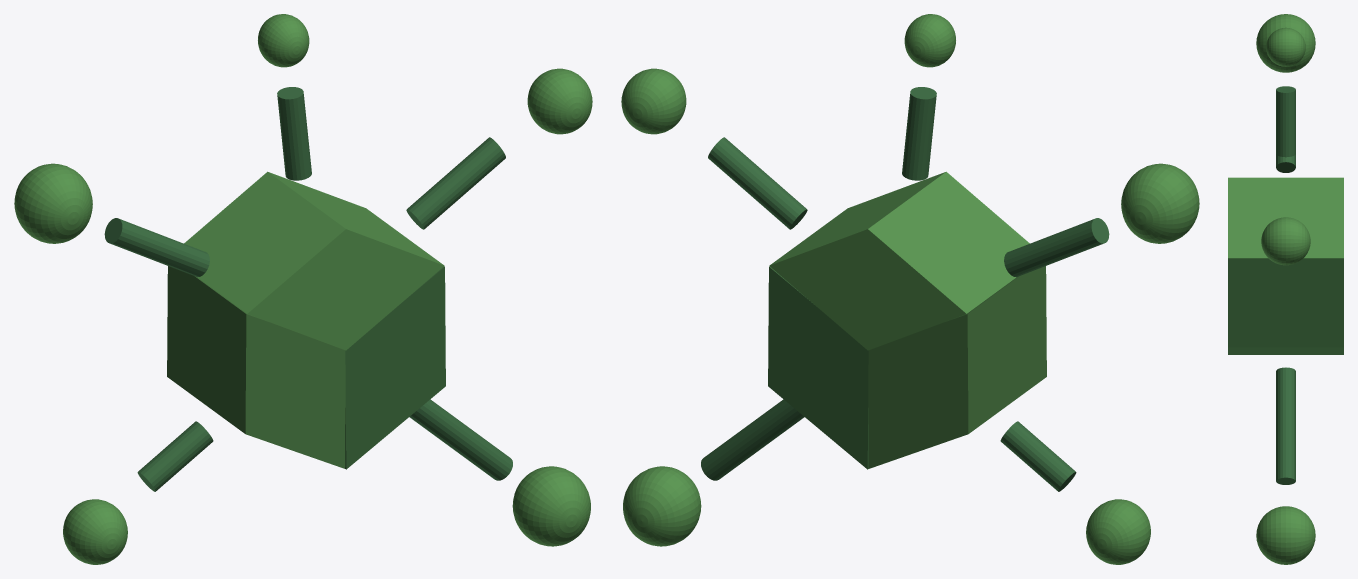
Rendered from tinker.obj.
The picture shows the model from 3 angles, left to right: view 1: azimuth 30°, elevation 25°; view 2: azimuth 150°, elevation 25°; view 3: azimuth 270°, elevation 25°; orthographic projection. The views are drawn at different scales.
Visible parts, largest first — view 1: group_0_5607757, group_0_4815938, group_0_3960131, group_0_3959612; view 2: group_0_5607757, group_0_4815938, group_0_3960131, group_0_3959612; view 3: group_0_5607757, group_0_3959612, group_0_3960131.
Part boxes in pixels (<box>): group_0_5607757: <box>14,14,592,564</box>; group_0_4815938: <box>167,266,345,468</box>; group_0_3960131: <box>104,87,512,491</box>; group_0_3959612: <box>345,266,445,469</box>; group_0_5607757: <box>621,14,1199,564</box>; group_0_4815938: <box>868,266,1046,468</box>; group_0_3960131: <box>701,87,1109,491</box>; group_0_3959612: <box>768,266,868,469</box>; group_0_5607757: <box>1228,14,1343,564</box>; group_0_3959612: <box>1228,258,1343,354</box>; group_0_3960131: <box>1276,86,1295,484</box>.
Size of the model in its own units: 48.9 by 48.7 by 11.7.
